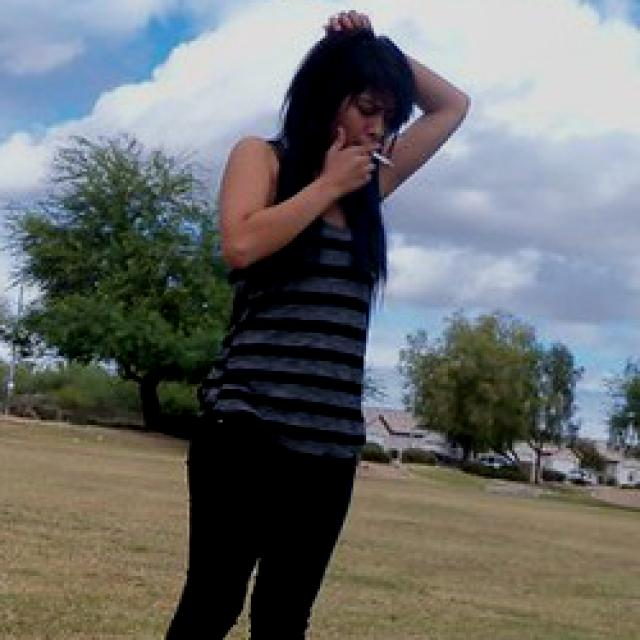Smooking: (363, 146, 396, 174)
